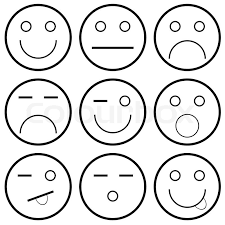feliz: (147, 153, 225, 221), (2, 4, 75, 74), (81, 78, 149, 145), (91, 91, 138, 134), (18, 19, 59, 59), (166, 169, 207, 208)
triste: (3, 79, 75, 148), (153, 6, 225, 72), (4, 155, 75, 221), (79, 6, 151, 71), (83, 152, 146, 221), (13, 88, 63, 136), (166, 17, 213, 61), (88, 16, 136, 58), (91, 169, 136, 210), (18, 167, 61, 209)
